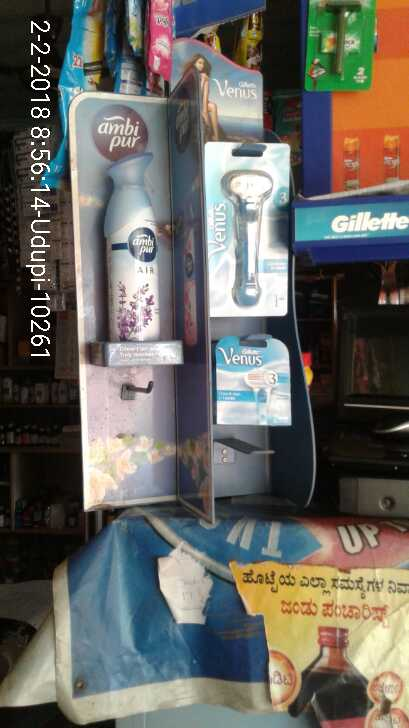beauty: (192, 131, 293, 318), (210, 326, 296, 434)
home: (94, 137, 171, 344)
